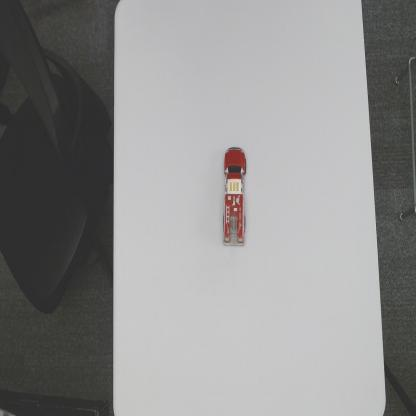Firetruck: (222, 145, 248, 249)
